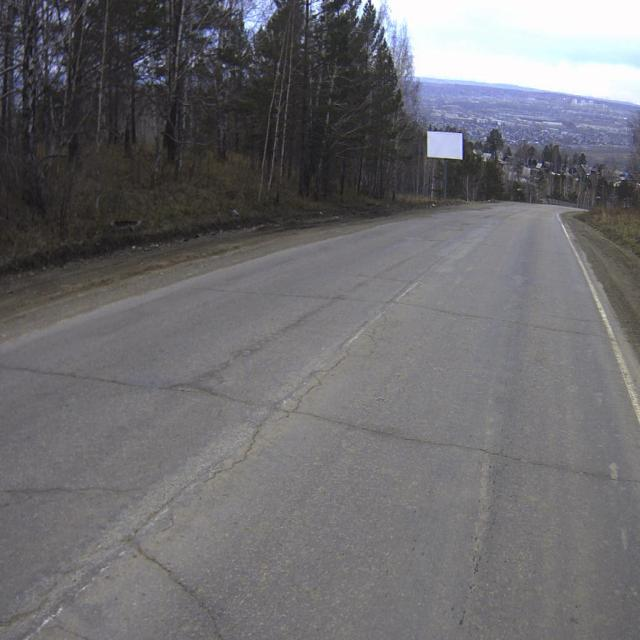road: (0, 203, 640, 639)
